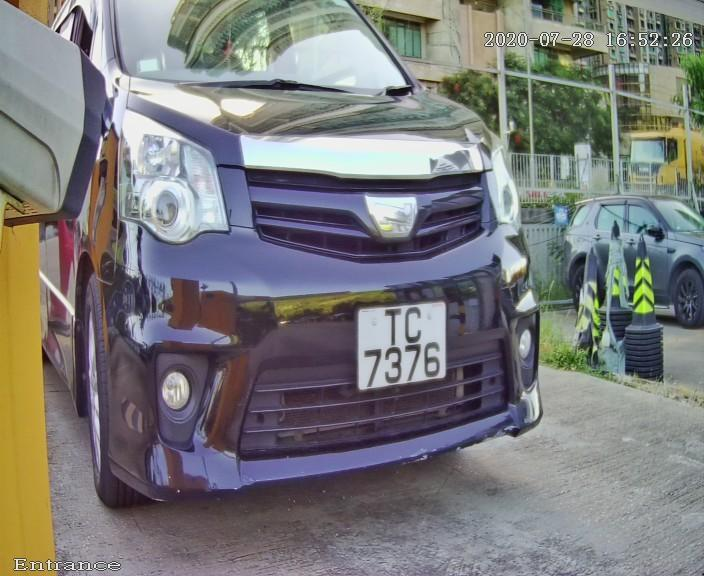privatecar: (10, 11, 629, 538)
